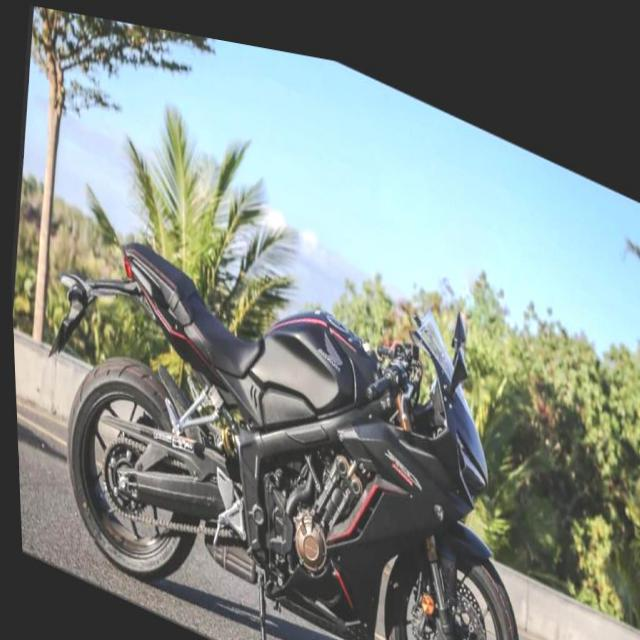CBR650R: (17, 118, 555, 639)
